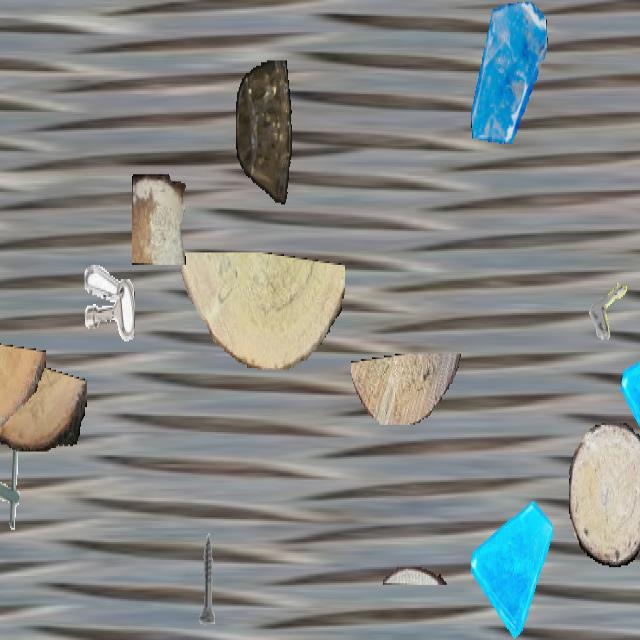glass: (471, 492, 553, 638), (469, 2, 549, 144), (621, 320, 640, 466)
metal: (585, 251, 640, 357), (180, 530, 234, 626), (84, 262, 134, 351), (0, 439, 34, 532), (639, 268, 640, 358)
plastic: (236, 60, 292, 206)
wood: (174, 252, 344, 370), (569, 423, 640, 565), (0, 359, 86, 452), (351, 354, 463, 425), (0, 338, 46, 448), (132, 174, 186, 263), (383, 567, 447, 585)
